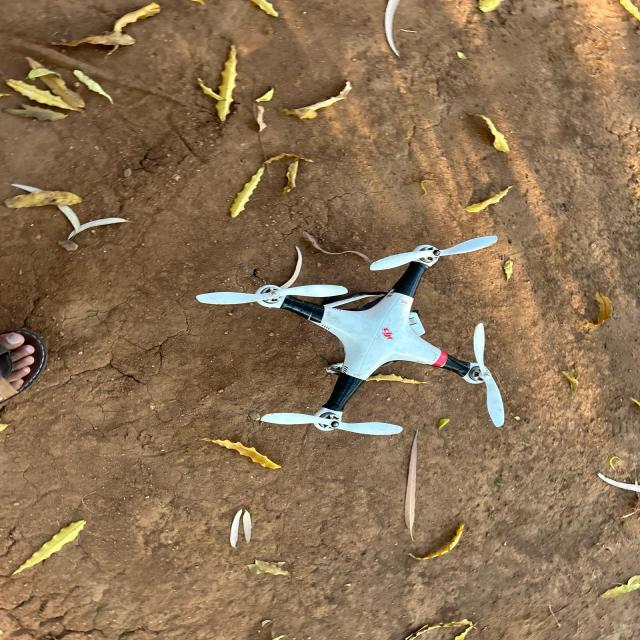drone: (141, 196, 628, 498)
